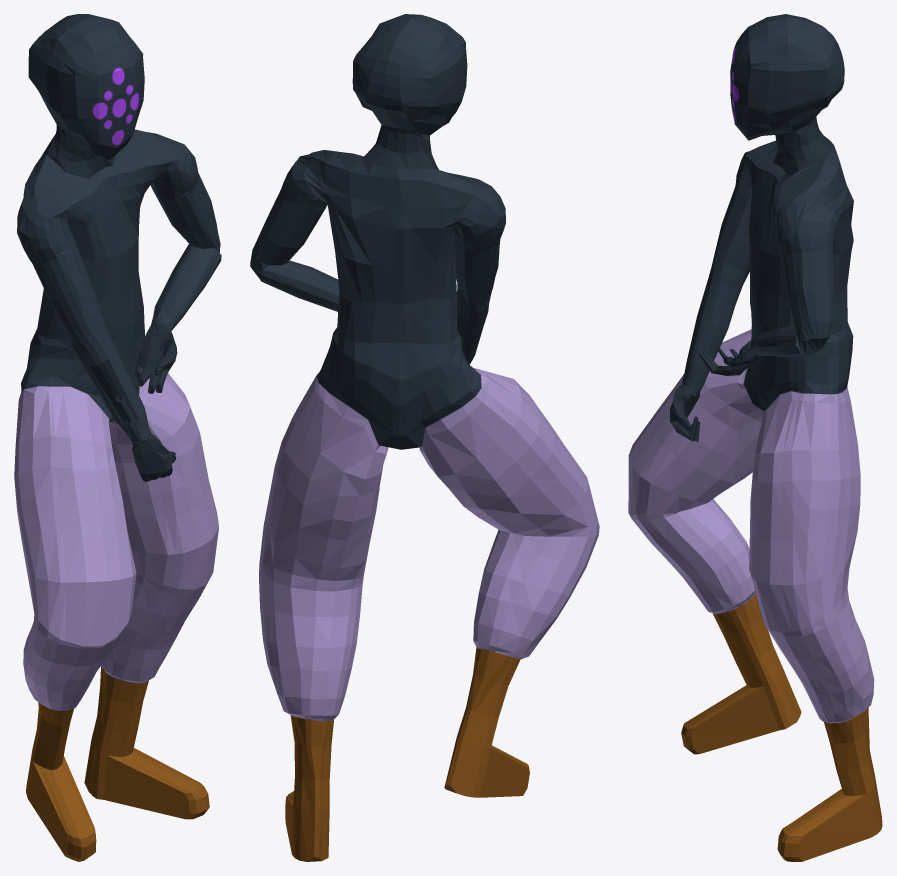
The model's file is Oracle_WL_000022.obj.
3 renders of one model, left to right at view 1: azimuth 30°, elevation 25°; view 2: azimuth 150°, elevation 25°; view 3: azimuth 270°, elevation 25°, orthographic. The views are drawn at different scales.
Visible parts, largest first — view 1: Cube; view 2: Cube; view 3: Cube.
Part boxes in pixels (x1,y1,x2,y2): Cube: (14, 14, 221, 861); Cube: (250, 14, 599, 861); Cube: (628, 14, 882, 861).
Bounding box in the file's own units: 1.28 × 3.86 × 1.13.
